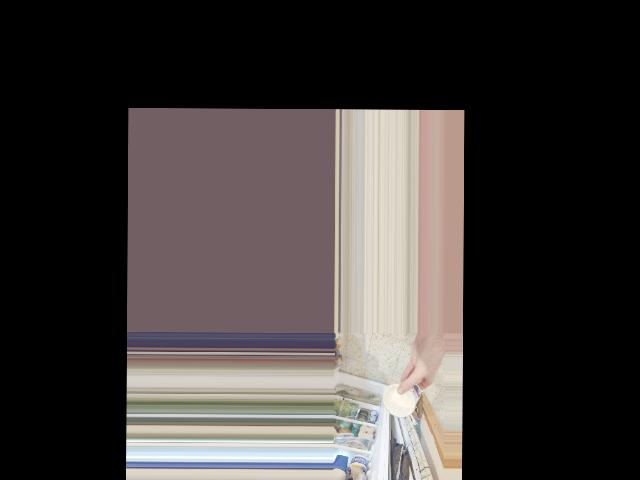cotage: (382, 380, 423, 419)
